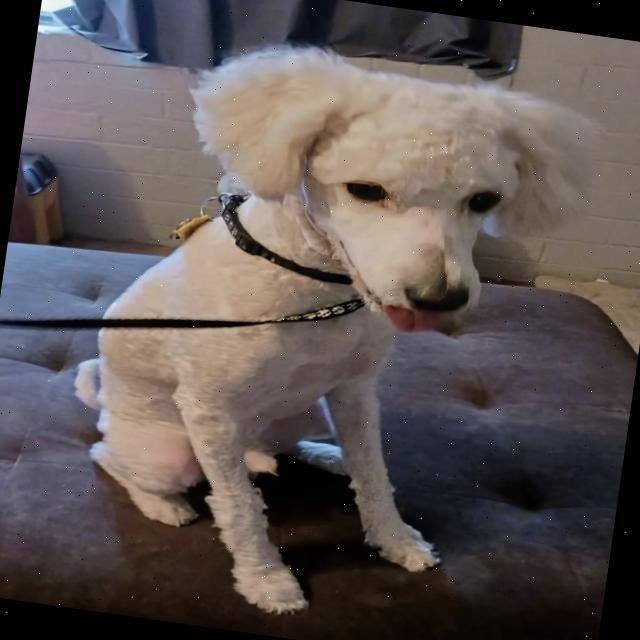Poodle_dog: (158, 25, 620, 375)
